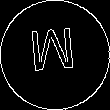M_S: (30, 28, 80, 82)
